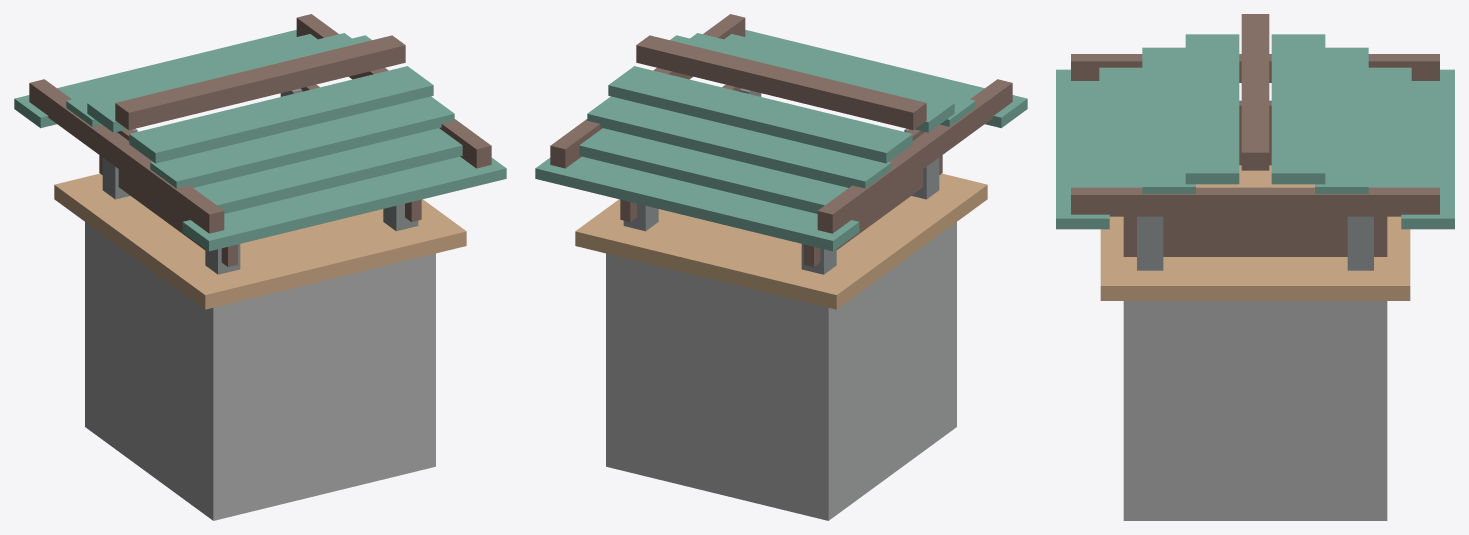
The model's file is watchtower_stone_4m.glb.
The picture shows the model from 3 angles, left to right: view 1: azimuth 30°, elevation 25°; view 2: azimuth 150°, elevation 25°; view 3: azimuth 270°, elevation 25°; orthographic projection. The views are drawn at different scales.
Parts seen in each view (by area): view 1: stone, roof_jade, wood_light, wood_dark, stone_dark; view 2: stone, roof_jade, wood_light, wood_dark, stone_dark; view 3: stone, roof_jade, wood_dark, wood_light, stone_dark.
Boxes of the visible parts, x1,y1,x2,y2 form: stone: (85, 222, 435, 520); roof_jade: (14, 30, 506, 251); wood_light: (54, 173, 466, 309); wood_dark: (29, 14, 491, 266); stone_dark: (102, 88, 418, 274); stone: (606, 222, 956, 520); roof_jade: (535, 30, 1027, 251); wood_light: (575, 173, 987, 309); wood_dark: (550, 14, 1012, 266); stone_dark: (623, 88, 939, 274); stone: (1123, 301, 1387, 520); roof_jade: (1056, 34, 1454, 229); wood_dark: (1071, 14, 1439, 256); wood_light: (1100, 165, 1410, 300); stone_dark: (1137, 216, 1373, 270).
Size of the model in its own units: 5.35 by 6.4 by 6.05.
